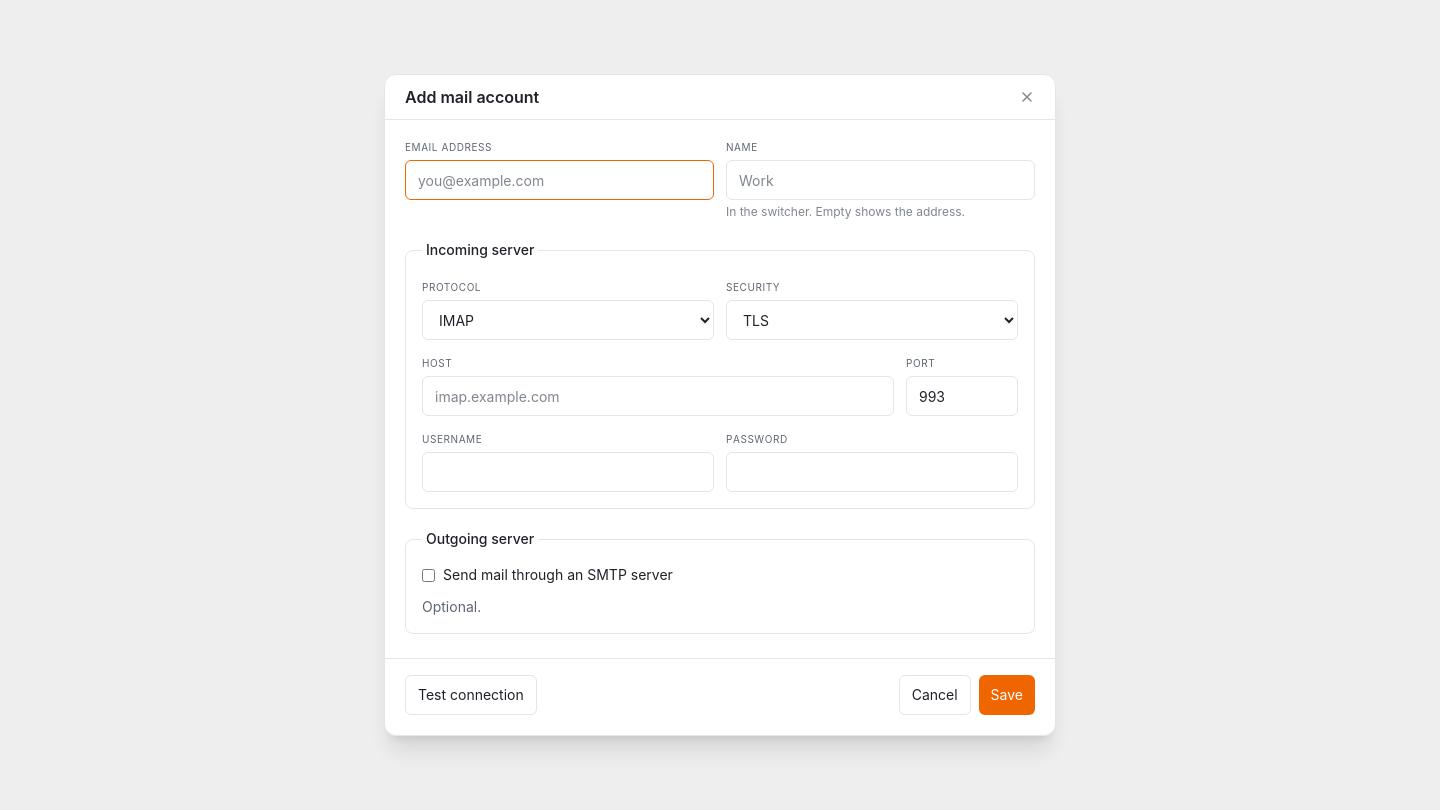
looking up a new config's servers › fills in the servers found for the address
The image size is (1440, 810).
Type "misha@example.com" into the field labelled "Email address".
click(560, 180); type("misha@example.com")  # box top-left (405, 160), bottom-right (714, 200)
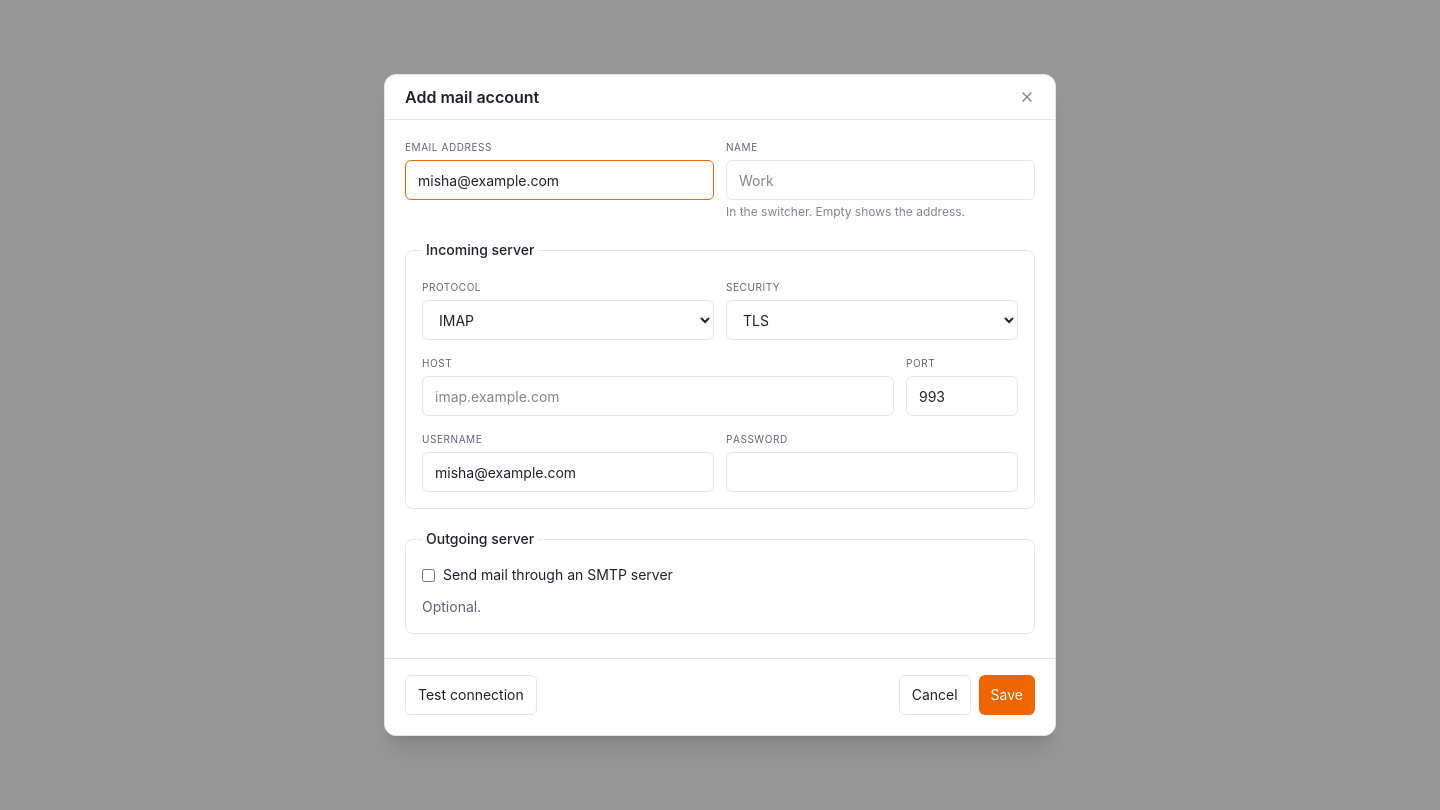
Leave the field labelled "Email address", box top-left (405, 160), bottom-right (714, 200)
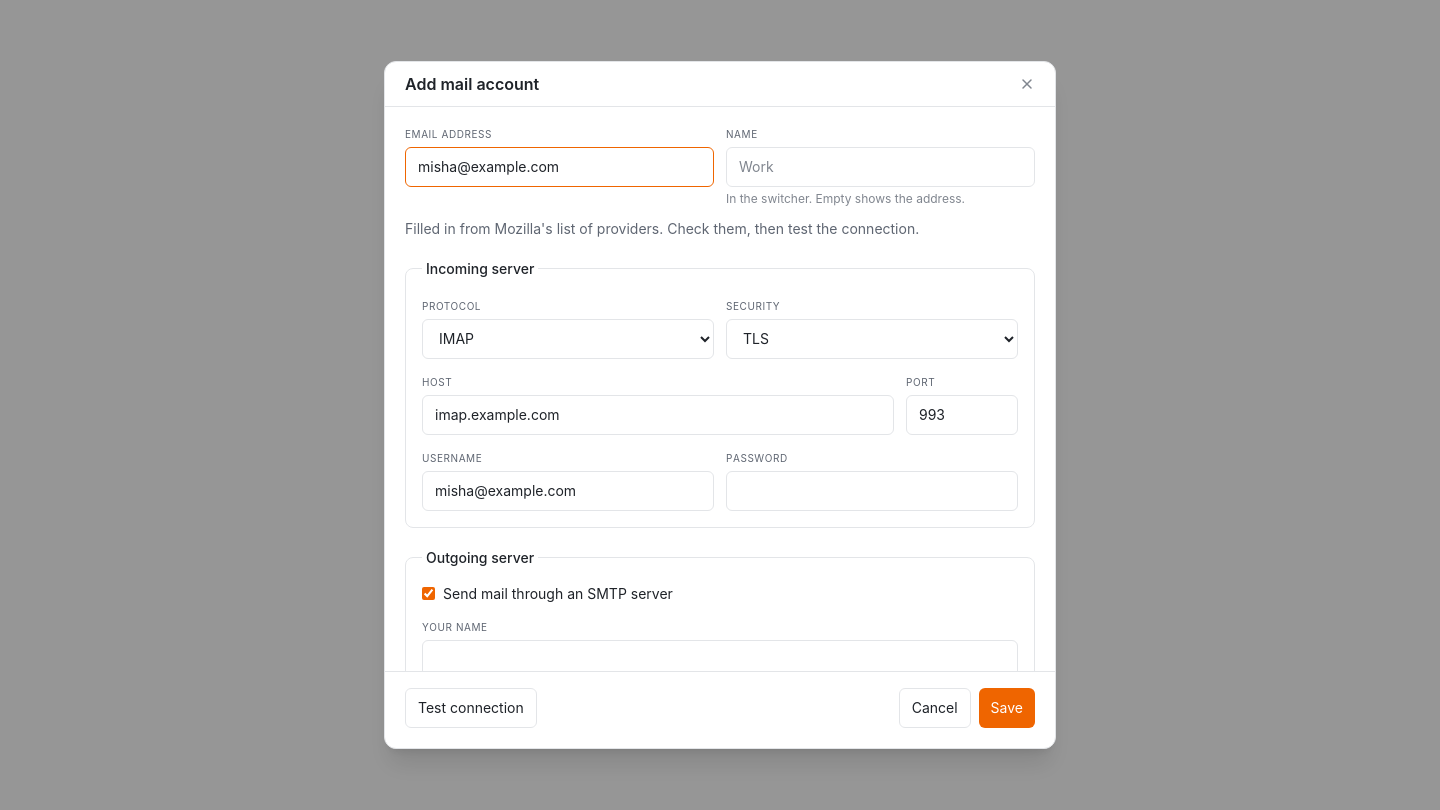
expect the text "Filled in from Mozilla's list of providers. Check them, then test the connection." is shown: met, box top-left (405, 220), bottom-right (919, 237)
